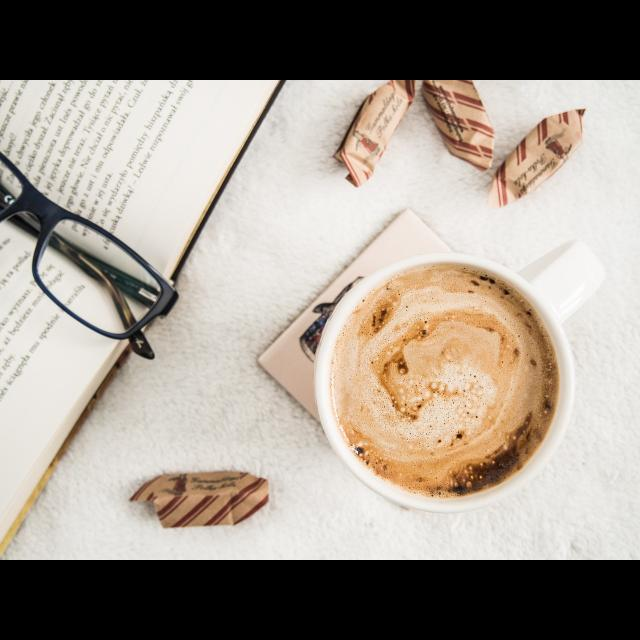glasses: (0, 158, 178, 360)
